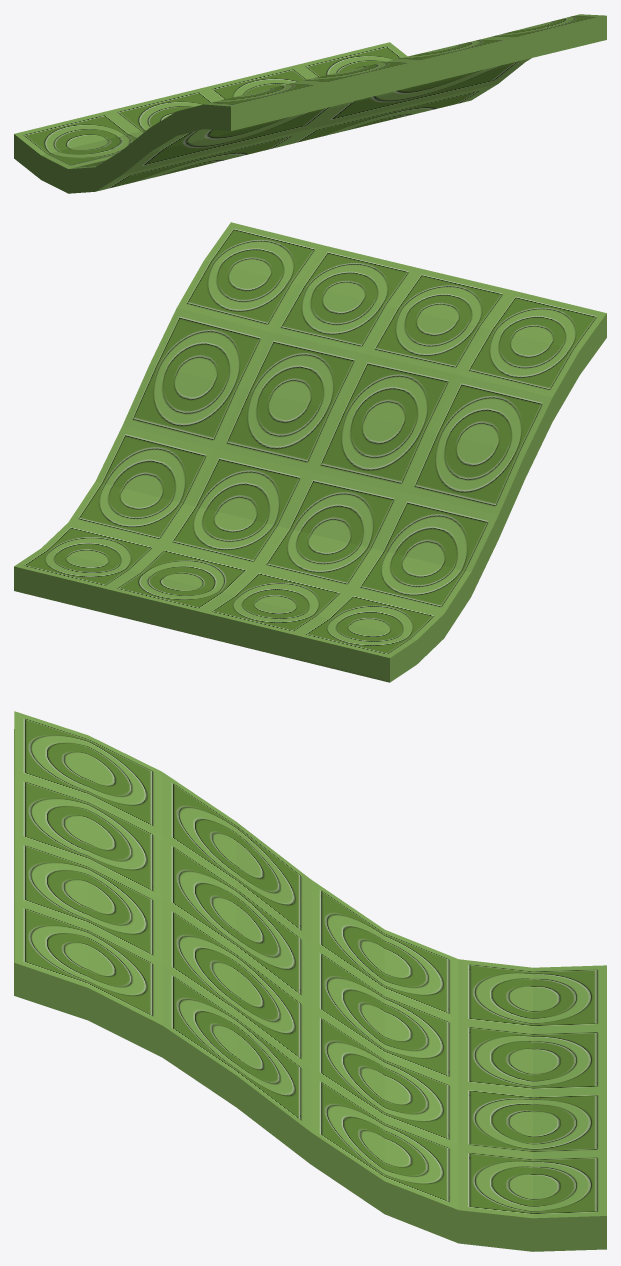
The model's file is RampUp.fbx.
The picture shows the model from 3 angles, top to bottom: view 1: azimuth 30°, elevation 25°; view 2: azimuth 150°, elevation 25°; view 3: azimuth 270°, elevation 25°; orthographic projection. The views are drawn at different scales.
Visible parts, largest first — view 1: 4x4; view 2: 4x4; view 3: 4x4.
Boxes of the visible parts, x1,y1,x2,y2 form: 4x4: (14, 14, 606, 193); 4x4: (14, 222, 606, 682); 4x4: (14, 711, 606, 1251).
Bounding box in the file's own units: 400 × 216 × 400.
